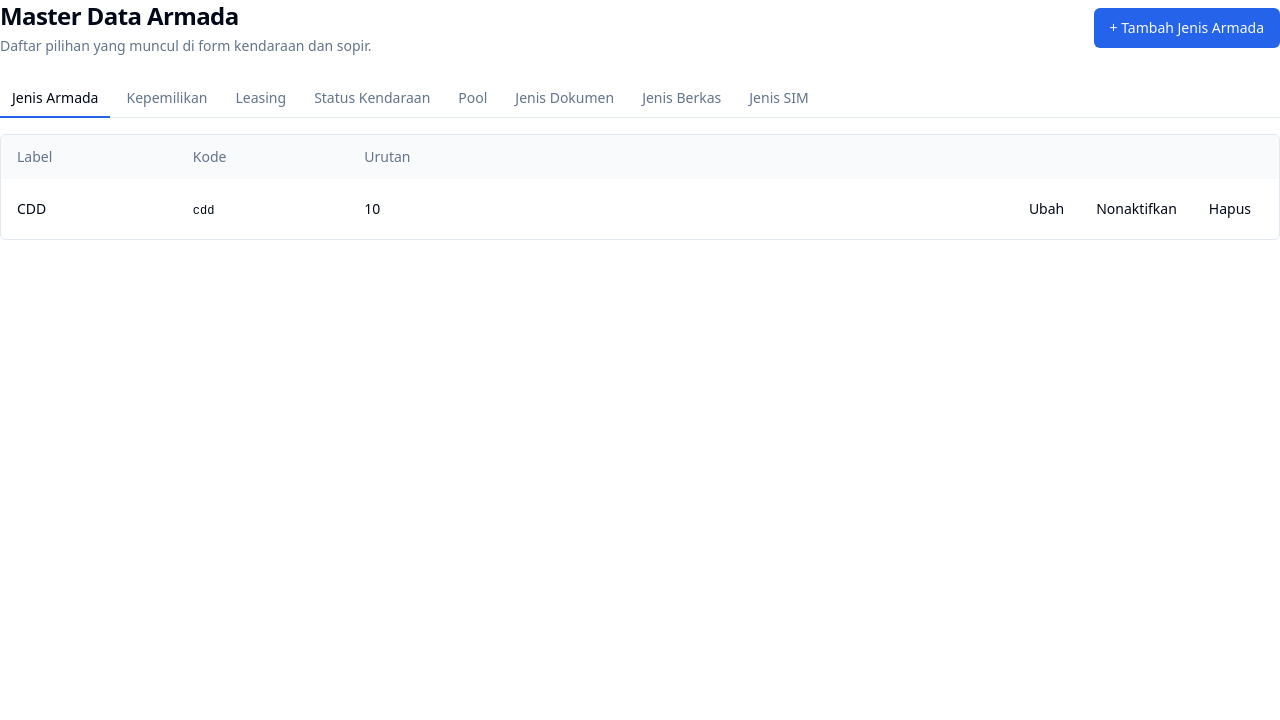
FleetMasterDataPage › surfaces the backend refusal when a delete is rejected
The width and height of the screenshot is (1280, 720).
Click the button "Hapus". click: (1230, 209)
box: [1197,191,1263,227]
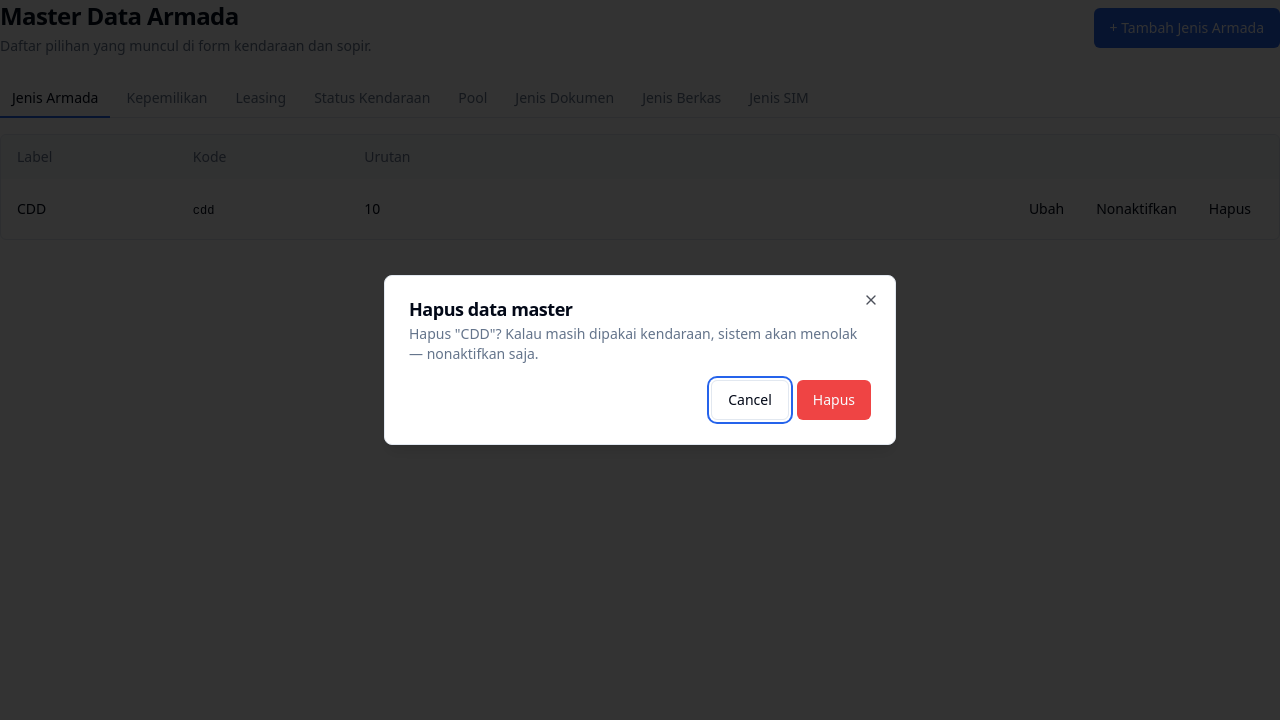
Click the button "Hapus". click: (834, 400)
box: [797,380,871,420]
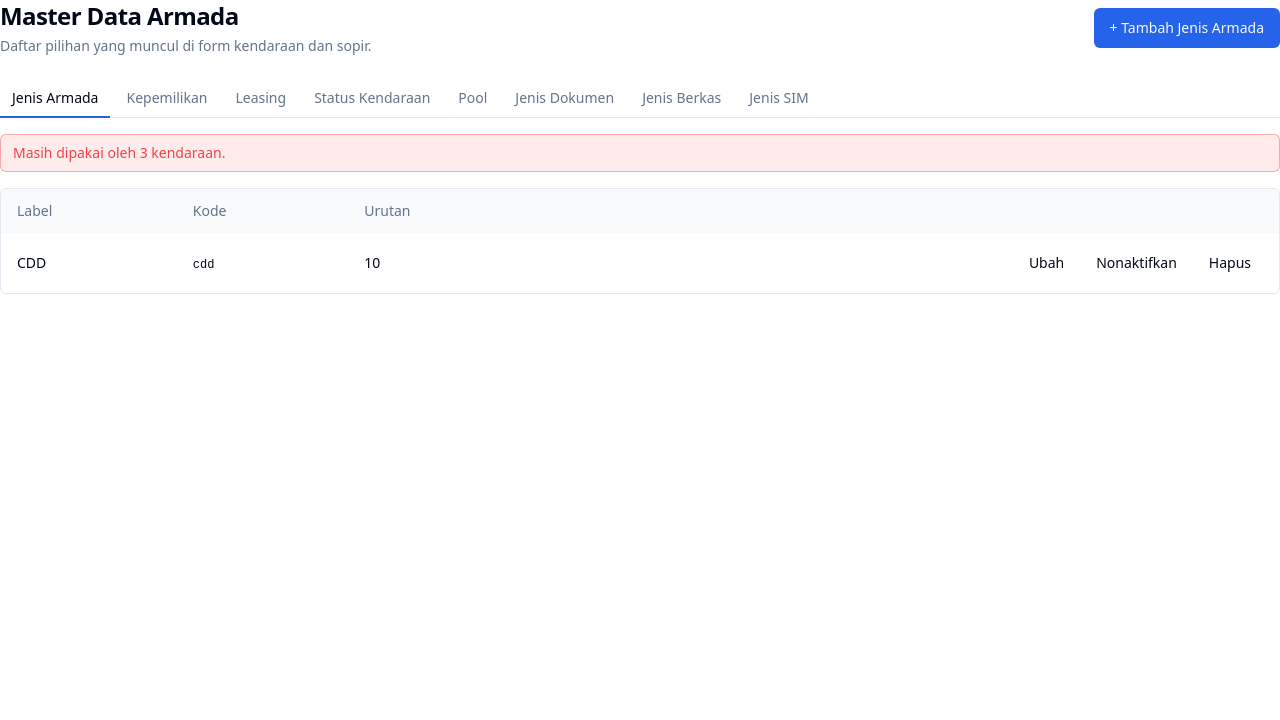
Expected: the text "Masih dipakai oleh 3 kendaraan." is shown, [0,134,1279,172]
